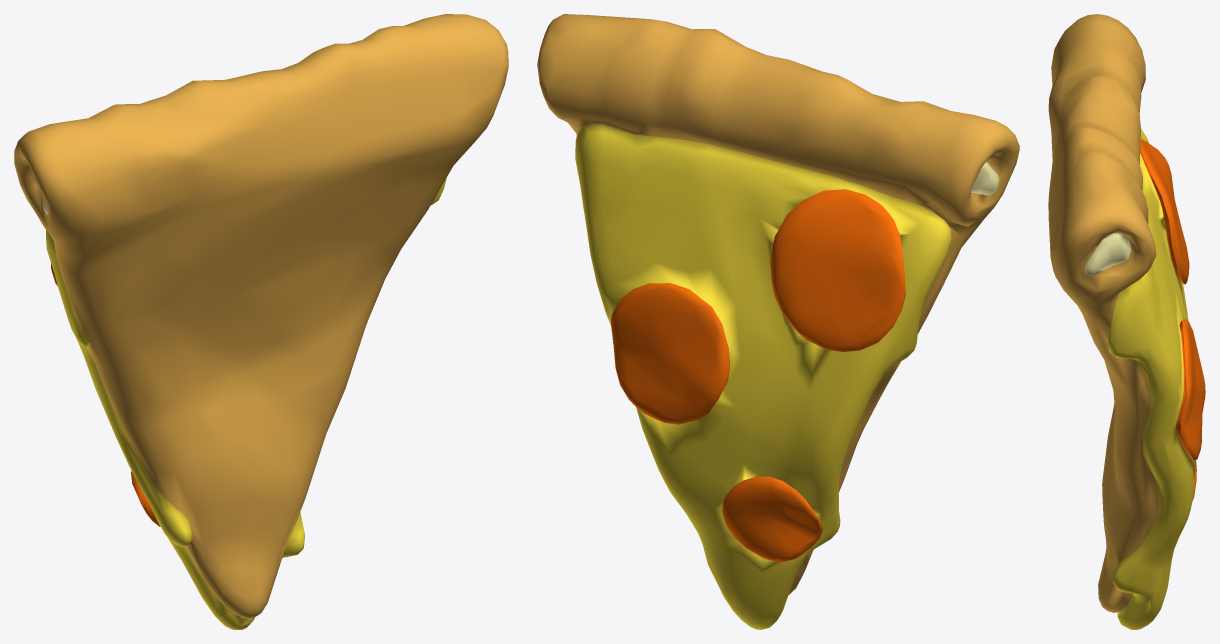
Rendered from pizza.glb.
3 renders of one model, left to right at view 1: azimuth 30°, elevation 25°; view 2: azimuth 150°, elevation 25°; view 3: azimuth 270°, elevation 25°, orthographic. The views are drawn at different scales.
Visible parts, largest first — view 1: pizza; view 2: pizza; view 3: pizza.
Part boxes in pixels (x1=…): pizza: x1=14, y1=14, x2=508, y2=629; pizza: x1=537, y1=14, x2=1019, y2=629; pizza: x1=1048, y1=14, x2=1205, y2=629.
Bounding box in the file's own units: 191 × 224 × 59.61.
